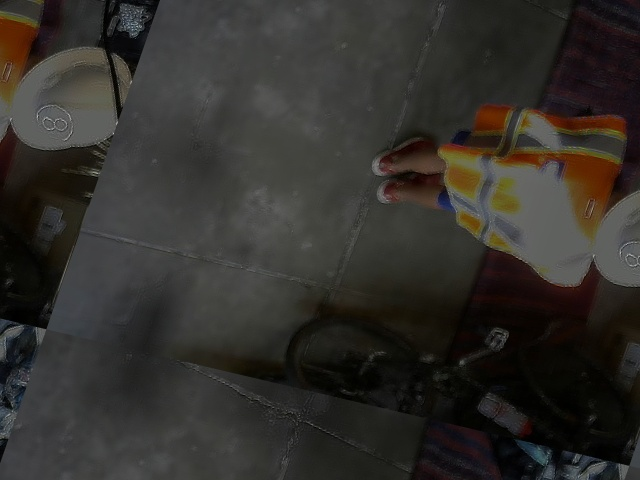eight: (610, 236, 639, 279)
